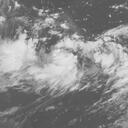cyclone: (36, 37, 100, 95)
